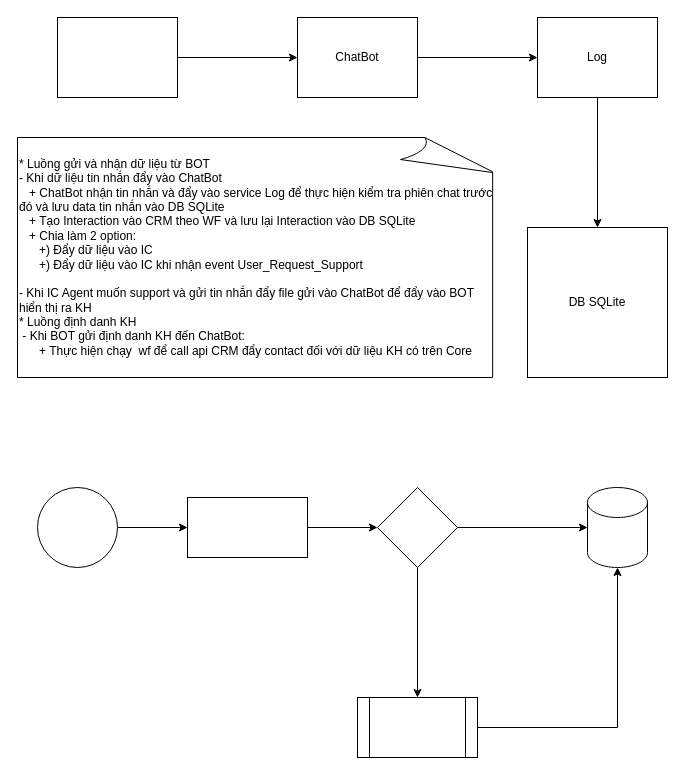
Image size: 685x775. Some labels were removed from this diagram. The shapes that lost their labels are listed below. From the top down, each one's box as (x1, y1, x2, y2) in pixels, then its label:
(56, 16, 178, 98): BOT
(36, 486, 118, 568): Start
